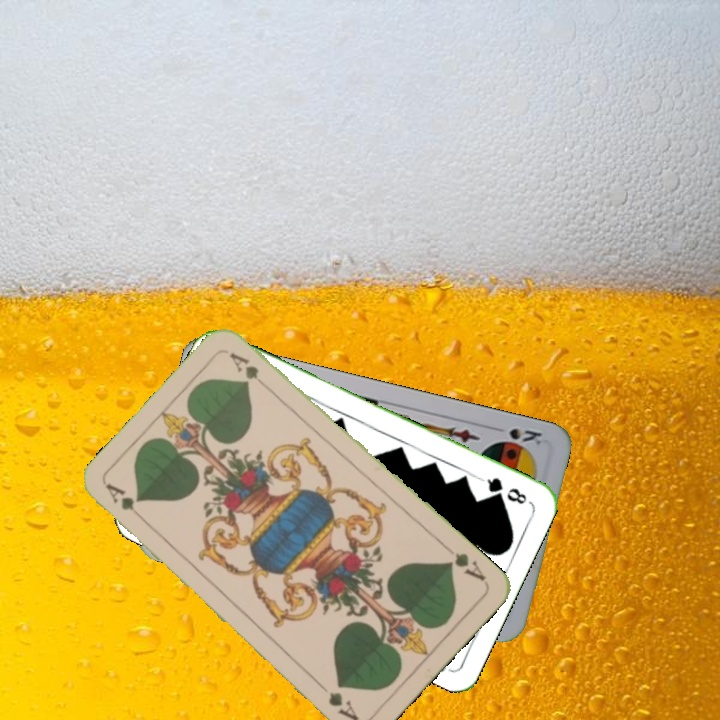G8: (477, 473, 530, 507)
GA: (101, 479, 149, 526), (441, 541, 488, 584)
SK: (490, 424, 545, 451)
